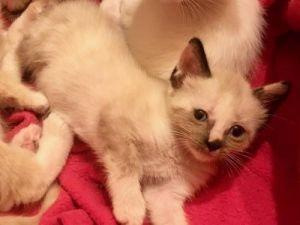siamese: (161, 34, 298, 174)
